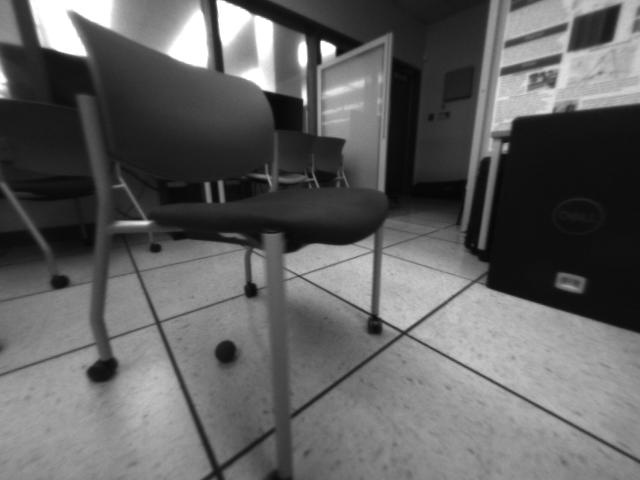dogtoy: (208, 333, 243, 369)
